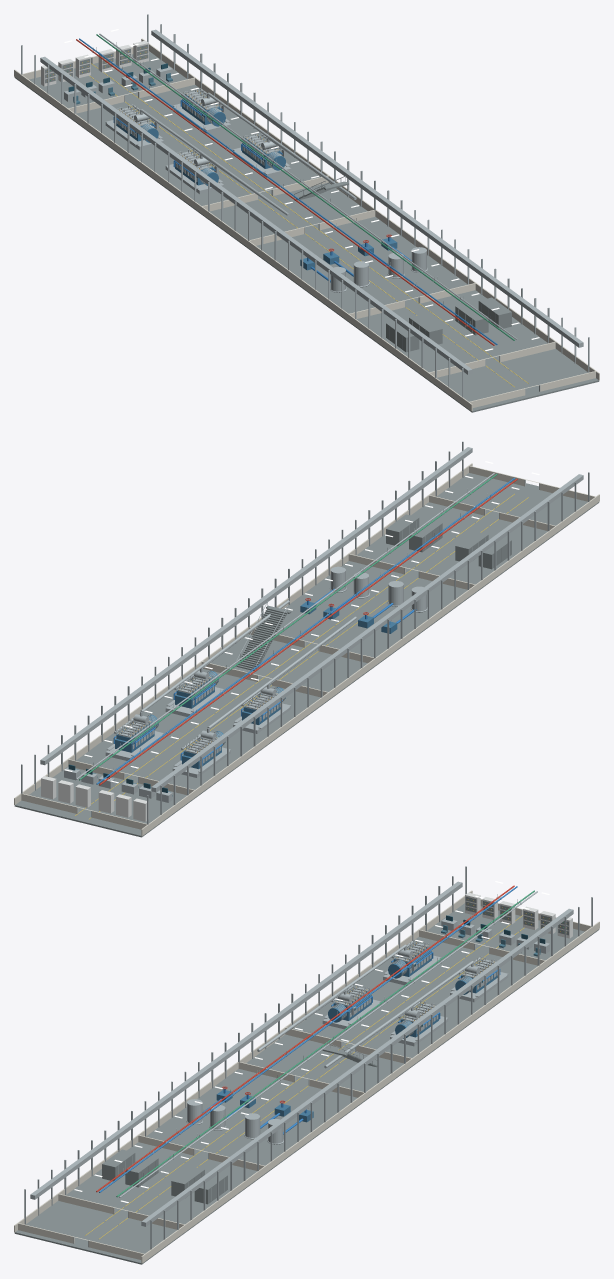
File: ship-engine.glb
The picture shows the model from 3 angles, top to bottom: view 1: azimuth 30°, elevation 25°; view 2: azimuth 150°, elevation 25°; view 3: azimuth 330°, elevation 25°; orthographic projection.
Visible parts, largest first — view 1: Engineering floor / Deck gray, Engineering walls / Interior ivory, Engineering ducts / Metal, Engineering frames / Metal, Engineering pipes / Metal, Electrical room / Deck gray, Pumps and auxiliaries / Metal, Engine control room / Porcelain paint, Engine 4 / Metal, Engine 2 / Metal, Engineering pipes / Pipe red, Engineering pipes / Pipe green (+8 smaller); view 2: Engineering floor / Deck gray, Engineering walls / Interior ivory, Engineering ducts / Metal, Engineering frames / Metal, Engineering pipes / Metal, Electrical room / Deck gray, Engine control room / Porcelain paint, Pumps and auxiliaries / Metal, Engineering stairs / Deck gray, Engine 2 / Metal, Engine 4 / Metal, Engineering pipes / Pipe red (+8 smaller); view 3: Engineering floor / Deck gray, Engineering walls / Interior ivory, Engineering ducts / Metal, Engineering frames / Metal, Engineering pipes / Metal, Electrical room / Deck gray, Pumps and auxiliaries / Metal, Engine control room / Porcelain paint, Engine 1 / Metal, Engine 3 / Metal, Engineering pipes / Pipe blue, Engineering pipes / Pipe red (+8 smaller).
Part boxes in pixels (bbox=[...]): Engineering floor / Deck gray: bbox=[14, 51, 599, 412]; Engineering walls / Interior ivory: bbox=[14, 38, 599, 411]; Engineering ducts / Metal: bbox=[40, 29, 583, 374]; Engineering frames / Metal: bbox=[21, 14, 589, 397]; Engineering pipes / Metal: bbox=[92, 33, 517, 340]; Electrical room / Deck gray: bbox=[386, 297, 511, 352]; Pumps and auxiliaries / Metal: bbox=[330, 247, 427, 292]; Engine control room / Porcelain paint: bbox=[41, 40, 148, 86]; Engine 4 / Metal: bbox=[233, 132, 291, 177]; Engine 2 / Metal: bbox=[172, 88, 230, 133]; Engineering pipes / Pipe red: bbox=[76, 39, 494, 345]; Engineering pipes / Pipe green: bbox=[96, 34, 514, 340]; Engineering floor / Deck gray: bbox=[14, 473, 599, 837]; Engineering walls / Interior ivory: bbox=[14, 463, 599, 835]; Engineering ducts / Metal: bbox=[40, 447, 583, 792]; Engineering frames / Metal: bbox=[21, 441, 589, 824]; Engineering pipes / Metal: bbox=[76, 473, 494, 779]; Electrical room / Deck gray: bbox=[386, 514, 511, 569]; Engine control room / Porcelain paint: bbox=[41, 776, 148, 821]; Pumps and auxiliaries / Metal: bbox=[330, 566, 427, 612]; Engineering stairs / Deck gray: bbox=[236, 605, 291, 670]; Engine 2 / Metal: bbox=[105, 714, 163, 761]; Engine 4 / Metal: bbox=[165, 670, 223, 717]; Engineering pipes / Pipe red: bbox=[99, 478, 517, 785]; Engineering floor / Deck gray: bbox=[14, 903, 599, 1264]; Engineering walls / Interior ivory: bbox=[14, 890, 599, 1263]; Engineering ducts / Metal: bbox=[30, 881, 573, 1226]; Engineering frames / Metal: bbox=[24, 866, 592, 1249]; Engineering pipes / Metal: bbox=[119, 891, 537, 1197]; Electrical room / Deck gray: bbox=[102, 1149, 227, 1204]; Pumps and auxiliaries / Metal: bbox=[186, 1099, 283, 1144]; Engine control room / Porcelain paint: bbox=[465, 892, 572, 938]; Engine 1 / Metal: bbox=[383, 940, 441, 985]; Engine 3 / Metal: bbox=[322, 984, 380, 1029]; Engineering pipes / Pipe blue: bbox=[99, 886, 517, 1192]; Engineering pipes / Pipe red: bbox=[96, 885, 514, 1192].
Size of the model in its own units: 22.18 by 7.28 by 137.
